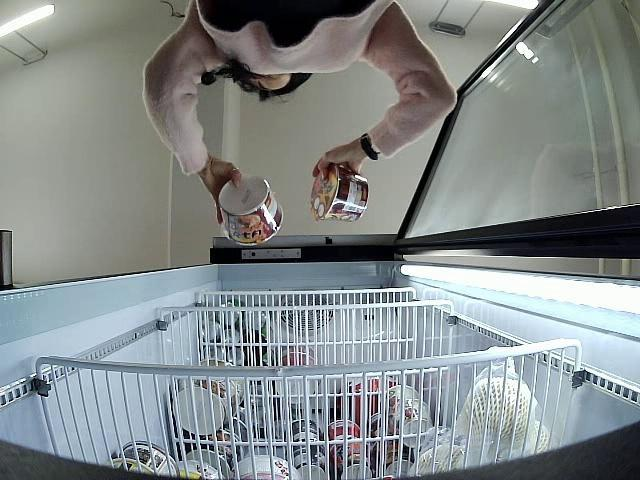05_nuguri_L: (217, 172, 284, 246), (308, 161, 372, 224)
